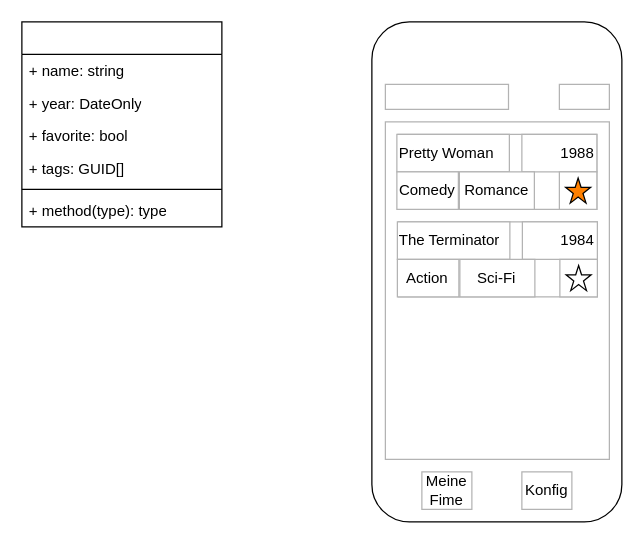
Some shapes in this 644 by 544 pixel diagram are drawn without their labels. The shapes that lost their labels are listed below. From the top down, each one's box as (x1, y1, x2, y2) in pixels, then its label:
(384, 83, 508, 109): Meine Filme
(558, 83, 609, 109): Filter
(21, 21, 222, 227): Movie
